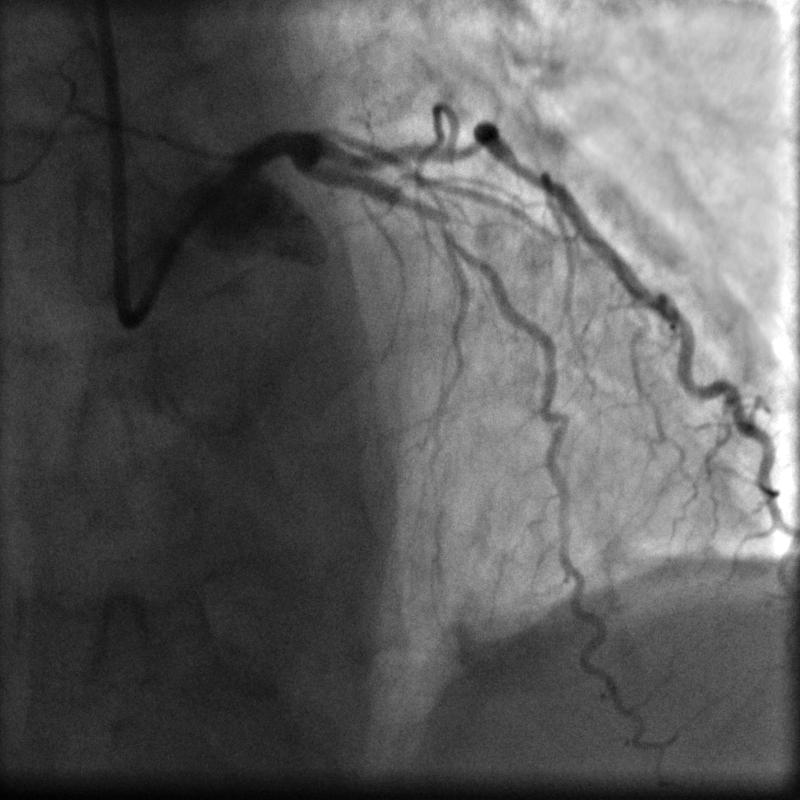Stenosis: (403, 187, 463, 250)
